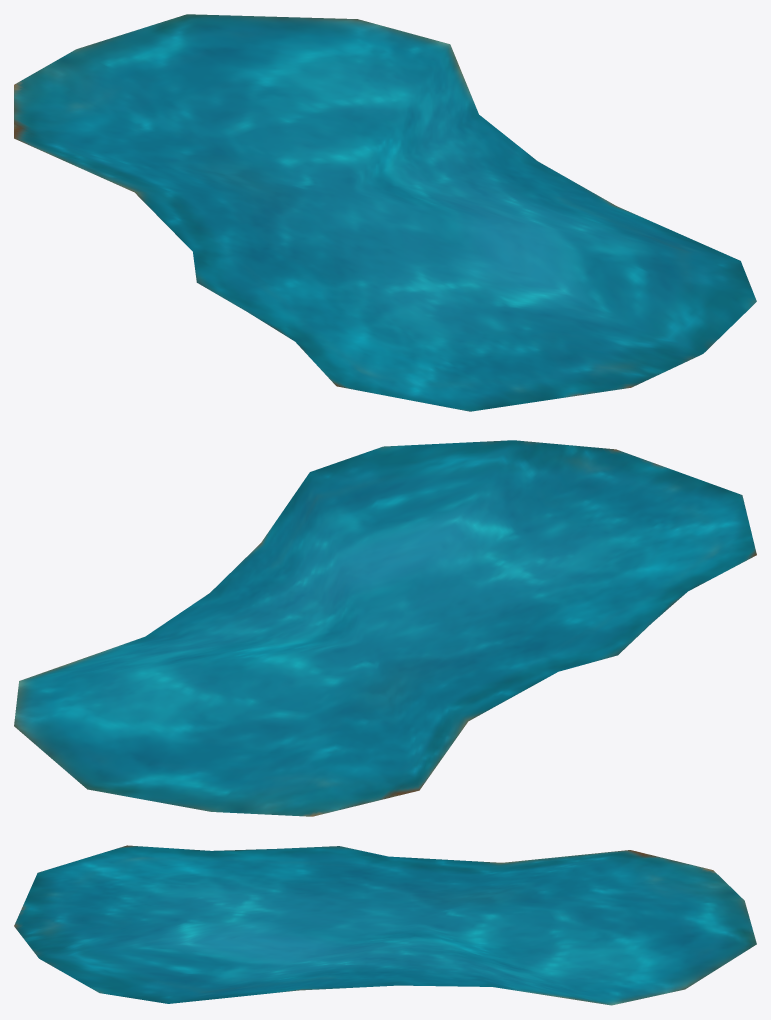
The model's file is shamoshui.FBX.
3 views of the same model, one above another, from view 1: azimuth 30°, elevation 25°; view 2: azimuth 150°, elevation 25°; view 3: azimuth 270°, elevation 25° (orthographic). The views are drawn at different scales.
Visible parts, largest first — view 1: shuikeng; view 2: shuikeng; view 3: shuikeng.
Boxes of the visible parts, x1,y1,x2,y2 form: shuikeng: (14,14,756,411); shuikeng: (14,440,756,816); shuikeng: (14,845,756,1005).
Bounding box in the file's own units: 137 × 1.43e-05 × 268.
